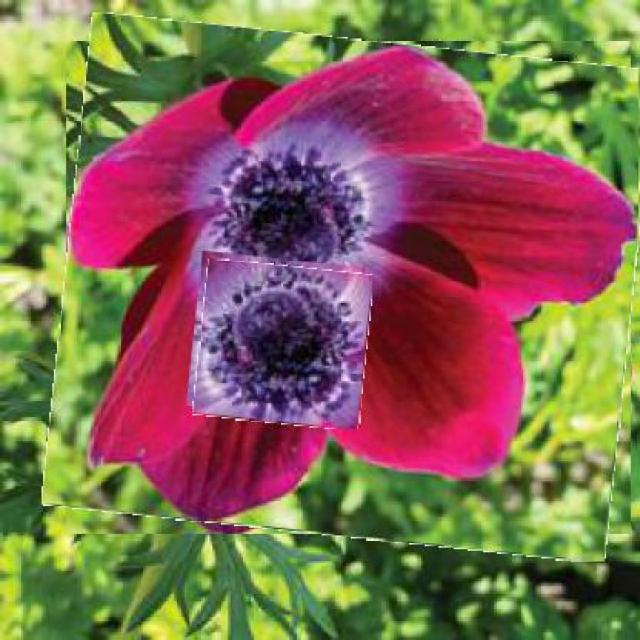Flower: (54, 26, 638, 549), (196, 262, 370, 427)
